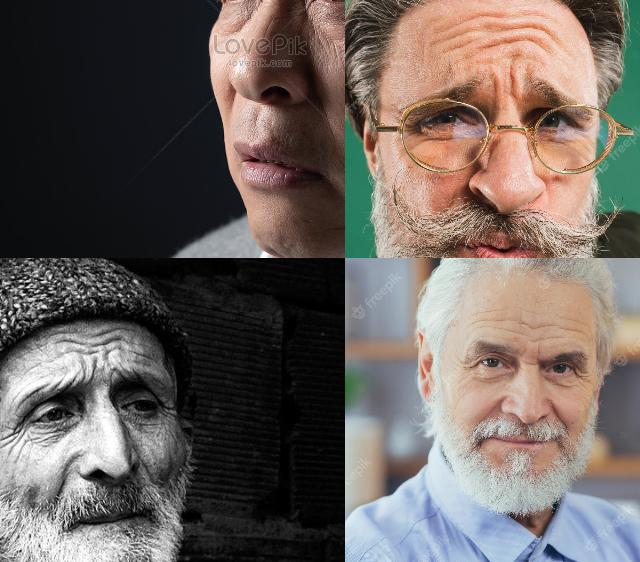chin: (327, 216, 345, 234)
crows_feet: (2, 416, 28, 455), (574, 366, 596, 388), (454, 358, 478, 378), (158, 396, 175, 424)
forehead: (512, 8, 548, 50), (477, 6, 507, 50), (436, 20, 470, 57), (92, 326, 126, 358), (53, 328, 89, 354), (501, 316, 533, 340), (536, 318, 560, 346), (469, 312, 496, 336), (564, 316, 586, 344), (64, 366, 96, 384)
frown_line: (506, 70, 522, 100), (488, 72, 502, 100)
gummy_smile: (48, 461, 70, 500), (481, 399, 501, 424), (548, 403, 566, 429)
